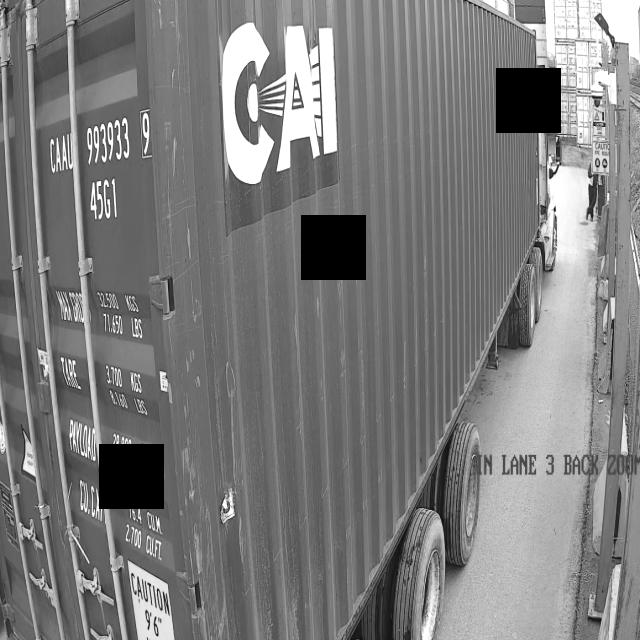container_number: (50, 116, 188, 640)
truck_with_container: (0, 0, 555, 640)
